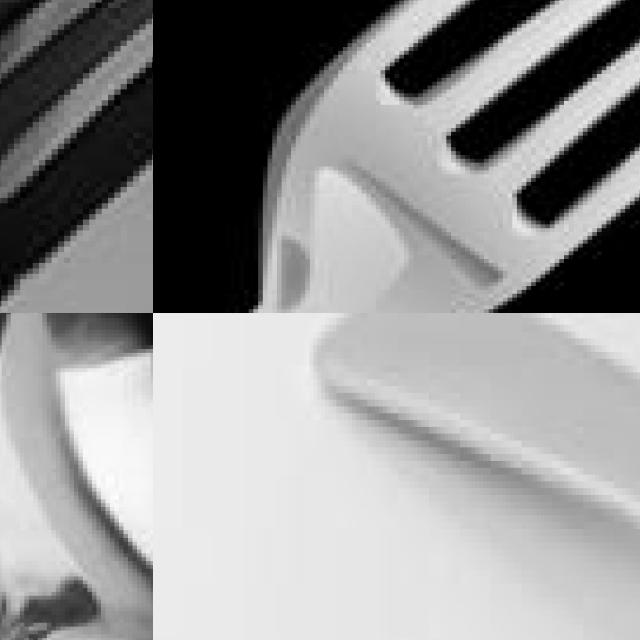forks: (165, 0, 640, 313), (0, 0, 153, 313)
spoons: (0, 313, 153, 640)
